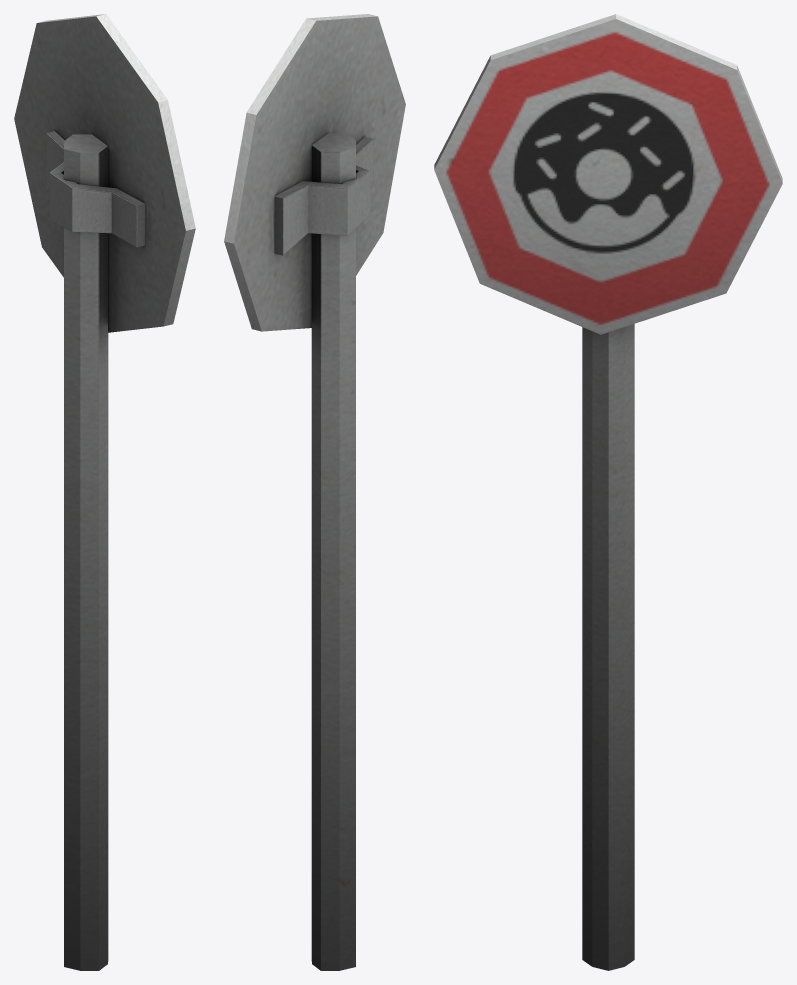
File: Prop_SignDonut.FBX
3 views of the same model, side by side, from view 1: azimuth 30°, elevation 25°; view 2: azimuth 150°, elevation 25°; view 3: azimuth 270°, elevation 25° (orthographic).
Visible parts, largest first — view 1: Prop_SignDonut; view 2: Prop_SignDonut; view 3: Prop_SignDonut.
Part boxes in pixels (bbox=[...]): Prop_SignDonut: bbox=[14, 14, 195, 970]; Prop_SignDonut: bbox=[224, 14, 405, 970]; Prop_SignDonut: bbox=[434, 14, 782, 970].
Size of the model in its own units: 9.8 by 179 by 59.41.
